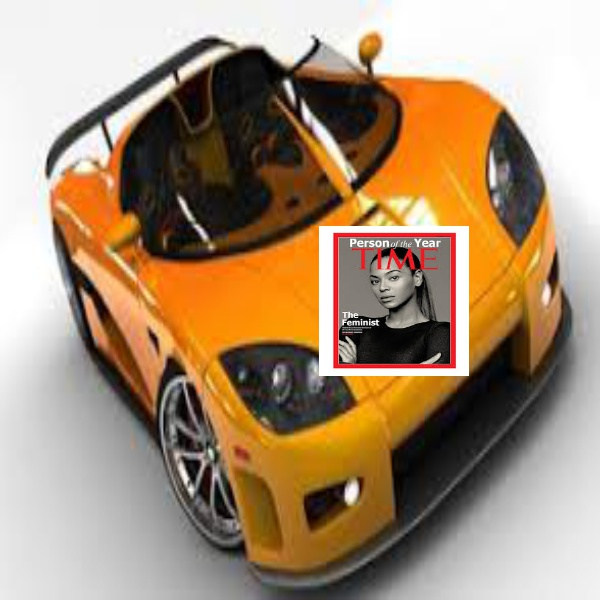time_cover: (317, 224, 463, 365)
